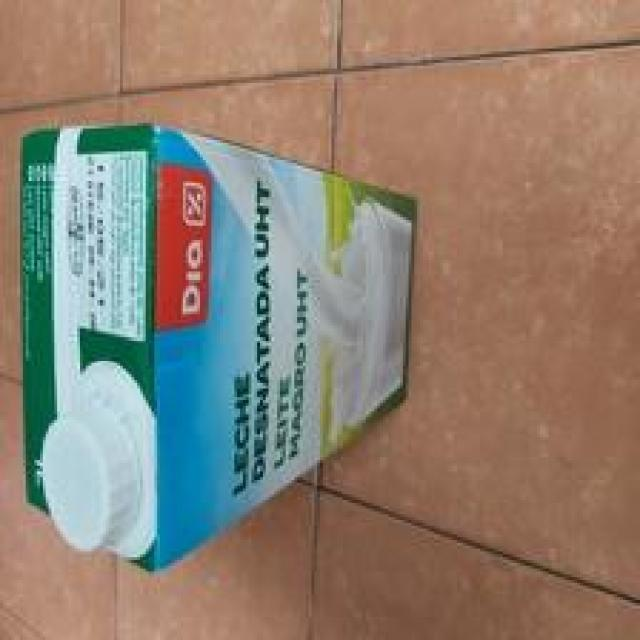Carton: (21, 126, 418, 571)
